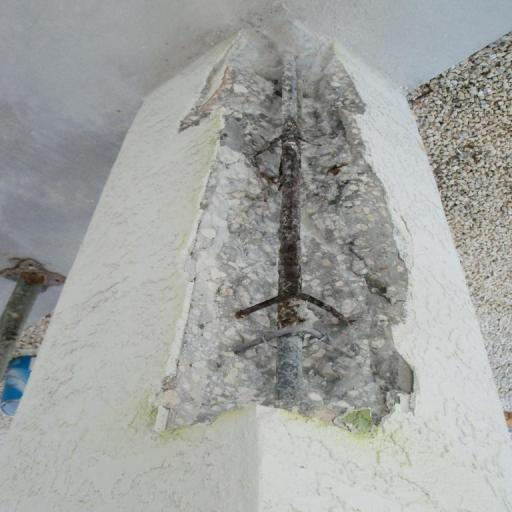spalling: (169, 19, 413, 432)
